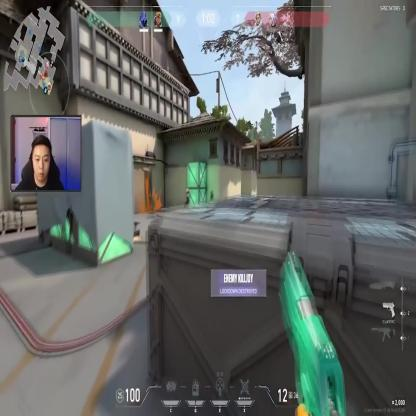enemy: (184, 187, 190, 216)
enemy_head: (186, 188, 189, 193)
